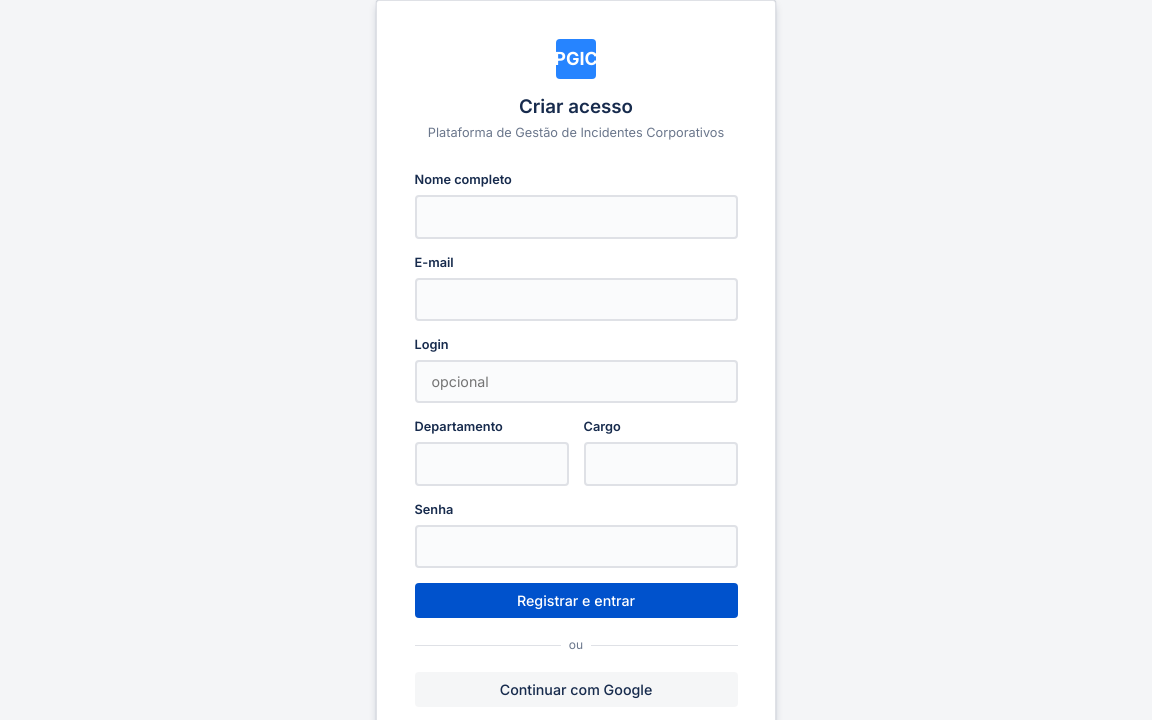
it: auth pages › registers with password and opens the dashboard
Expected: the heading "Criar acesso" is shown, [519, 94, 633, 118]
Step 1. Type "Vinicius Souza de Moraes" into the field labelled "Nome completo" → (576, 217), box [414, 195, 738, 239]
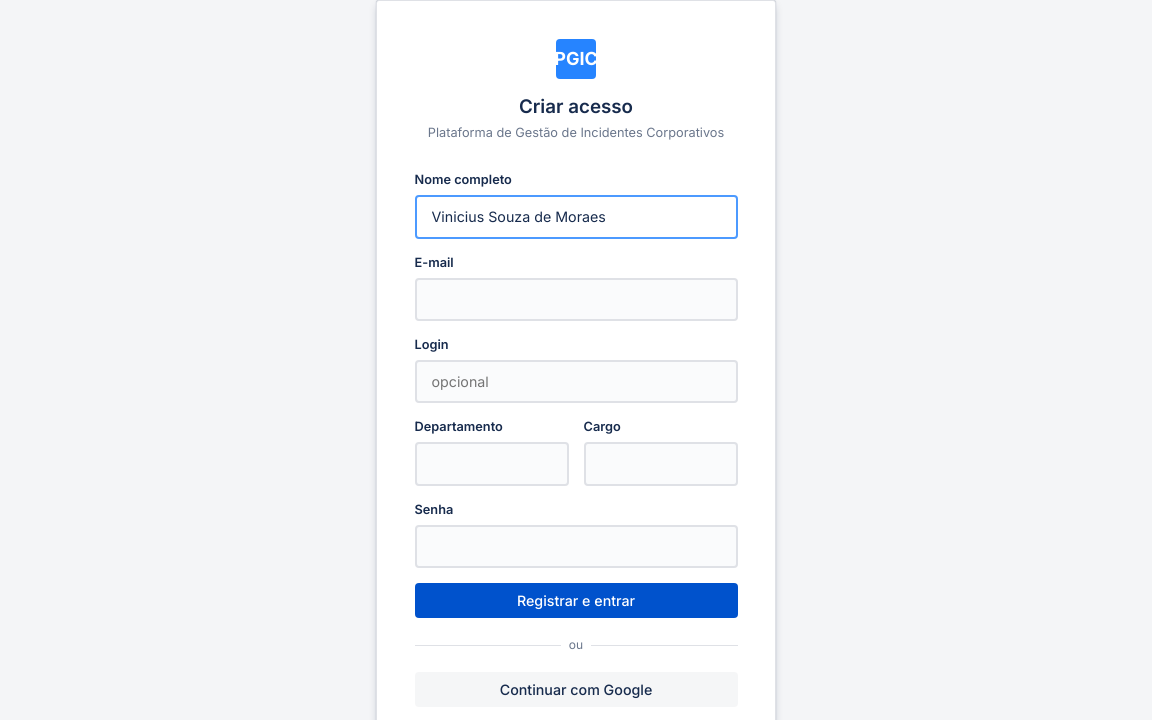
Step 2. Type "vinicius@example.com" into the field labelled "E-mail" → (576, 299), box [414, 278, 738, 321]
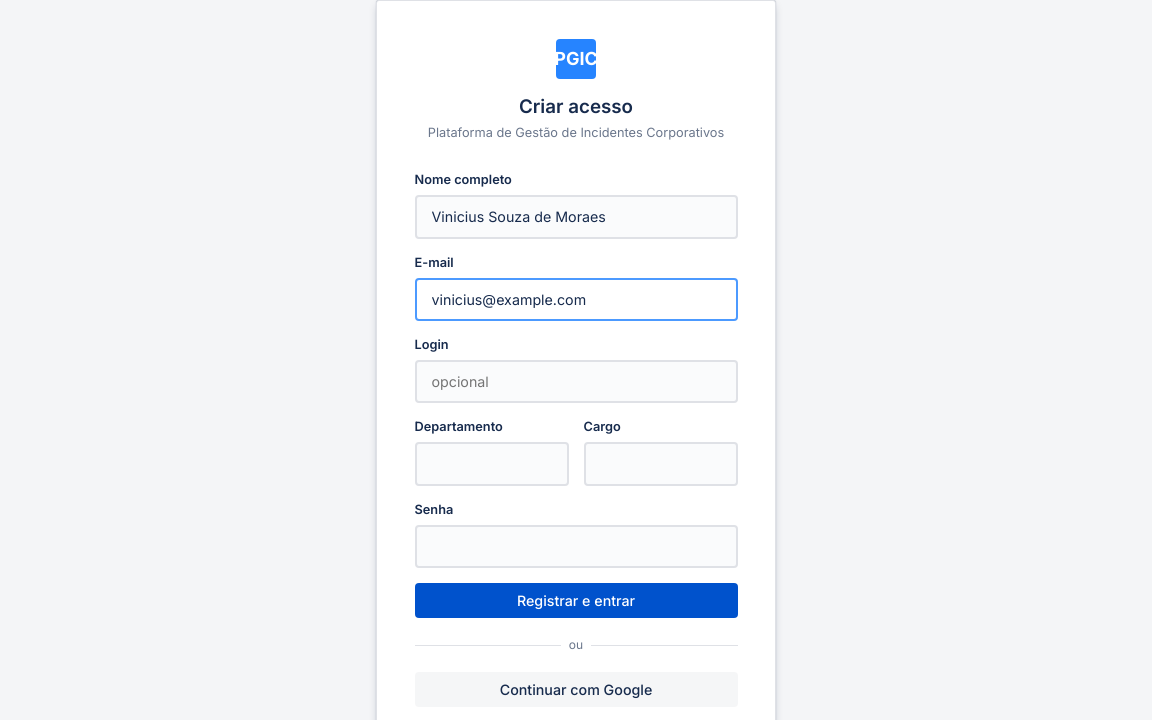
Step 3. Type "Password123" into the password field labelled "Senha" → (576, 546), box [414, 525, 738, 568]
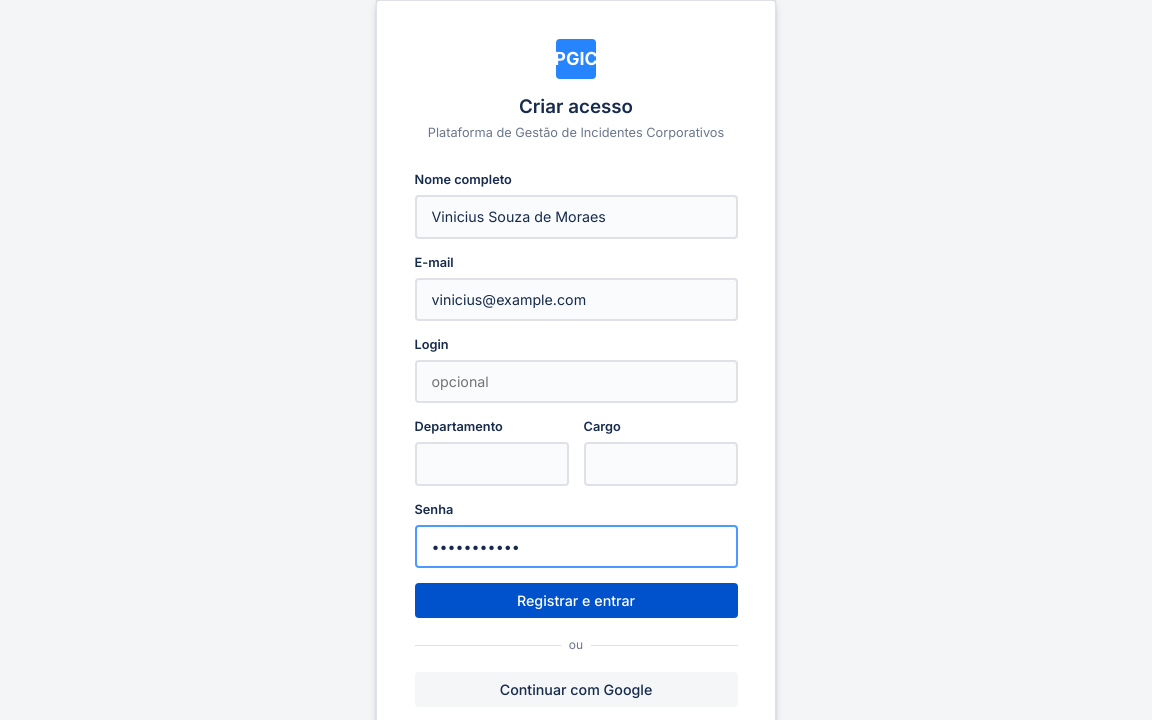
Step 4. Click the button "Registrar e entrar" → (576, 601), box [414, 583, 738, 618]
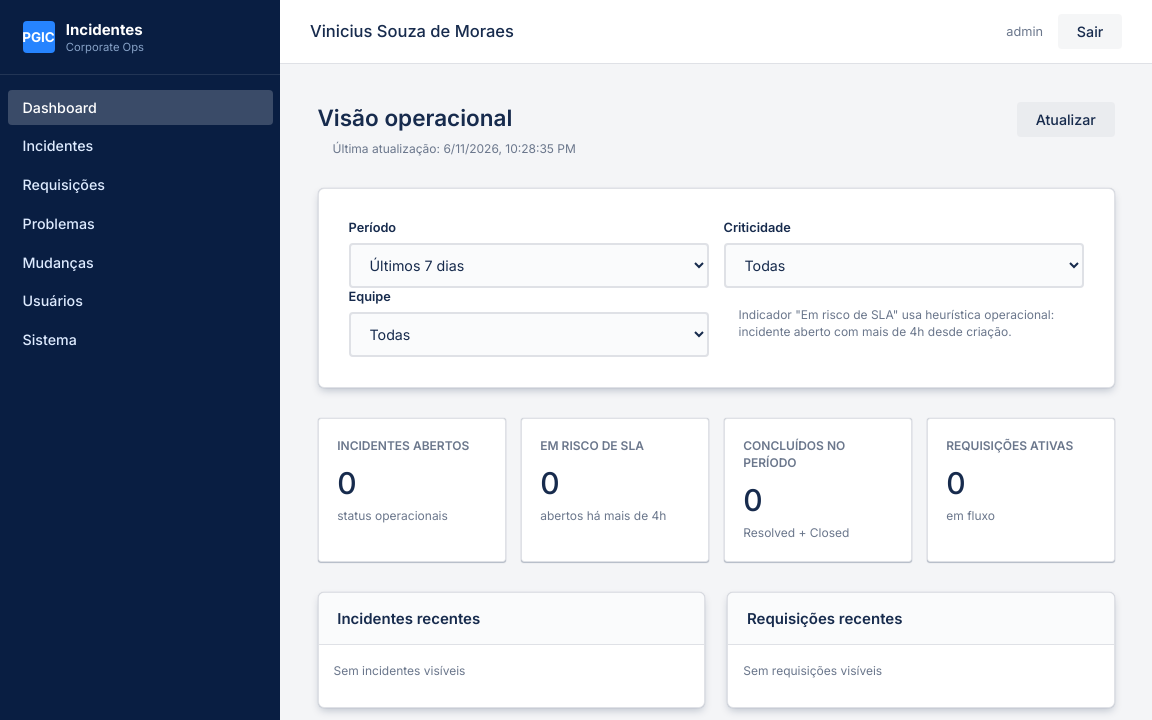
Expected: the heading "Visão operacional" is shown, [318, 104, 512, 130]
